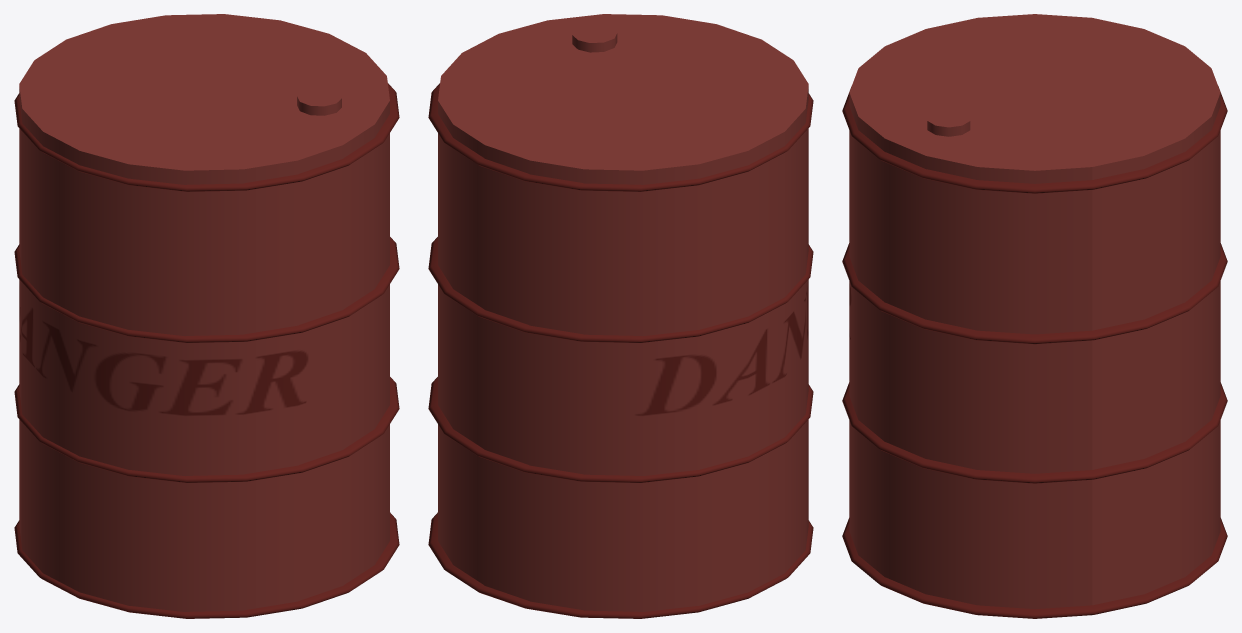
File: buroF.obj
3 views of the same model, side by side, from view 1: azimuth 30°, elevation 25°; view 2: azimuth 150°, elevation 25°; view 3: azimuth 270°, elevation 25° (orthographic).
Visible parts, largest first — view 1: buroF:barrel_low1; view 2: buroF:barrel_low1; view 3: buroF:barrel_low1.
Boxes of the visible parts, x1,y1,x2,y2 form: buroF:barrel_low1: (14, 14, 399, 618); buroF:barrel_low1: (428, 14, 813, 618); buroF:barrel_low1: (842, 14, 1227, 618).
Bounding box in the file's own units: 0.2701 × 0.3558 × 0.2701.
2 materials, 2 textured.
